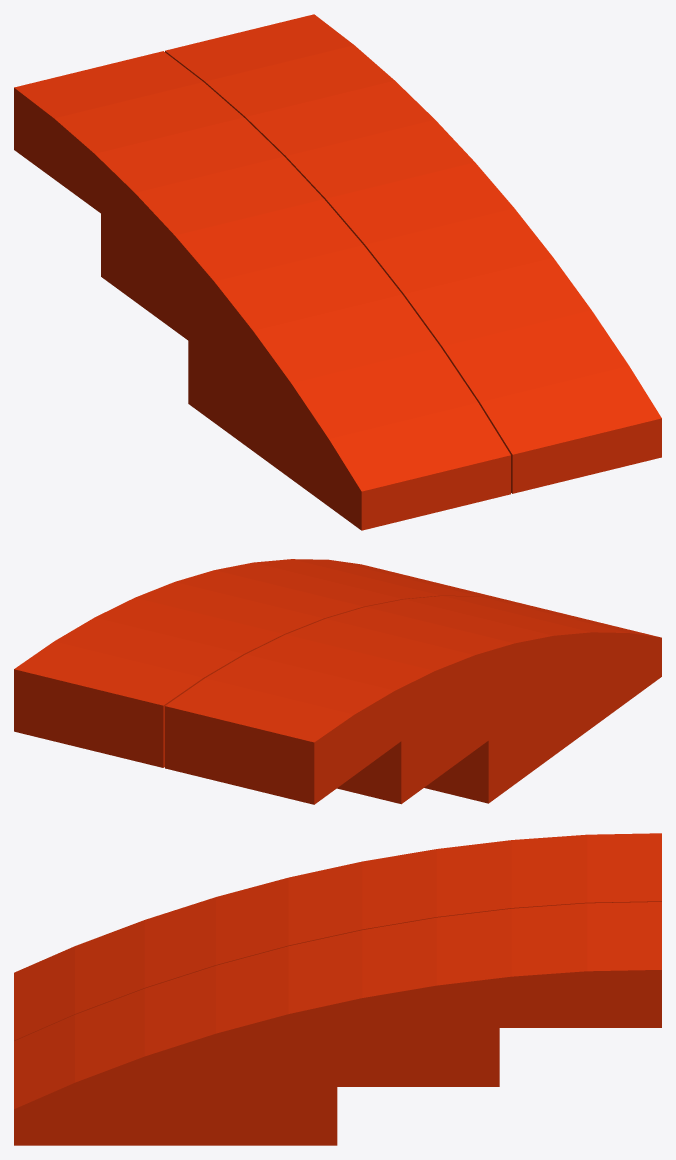
The model's file is Sunset_Track_Racer.dae.
The picture shows the model from 3 angles, top to bottom: view 1: azimuth 30°, elevation 25°; view 2: azimuth 150°, elevation 25°; view 3: azimuth 270°, elevation 25°; orthographic projection. The views are drawn at different scales.
Parts seen in each view (by area): view 1: Part_61678.2, Part_61678.1; view 2: Part_61678.2, Part_61678.1; view 3: Part_61678.1, Part_61678.2.
Boxes of the visible parts, left/top/right/bottom form: Part_61678.2: left=14, top=51, right=510, bottom=530; Part_61678.1: left=165, top=14, right=661, bottom=493; Part_61678.2: left=165, top=596, right=661, bottom=804; Part_61678.1: left=14, top=559, right=510, bottom=767; Part_61678.1: left=14, top=902, right=661, bottom=1145; Part_61678.2: left=14, top=833, right=661, bottom=1040.
Size of the model in its own units: 15.92 by 9.56 by 31.92.
